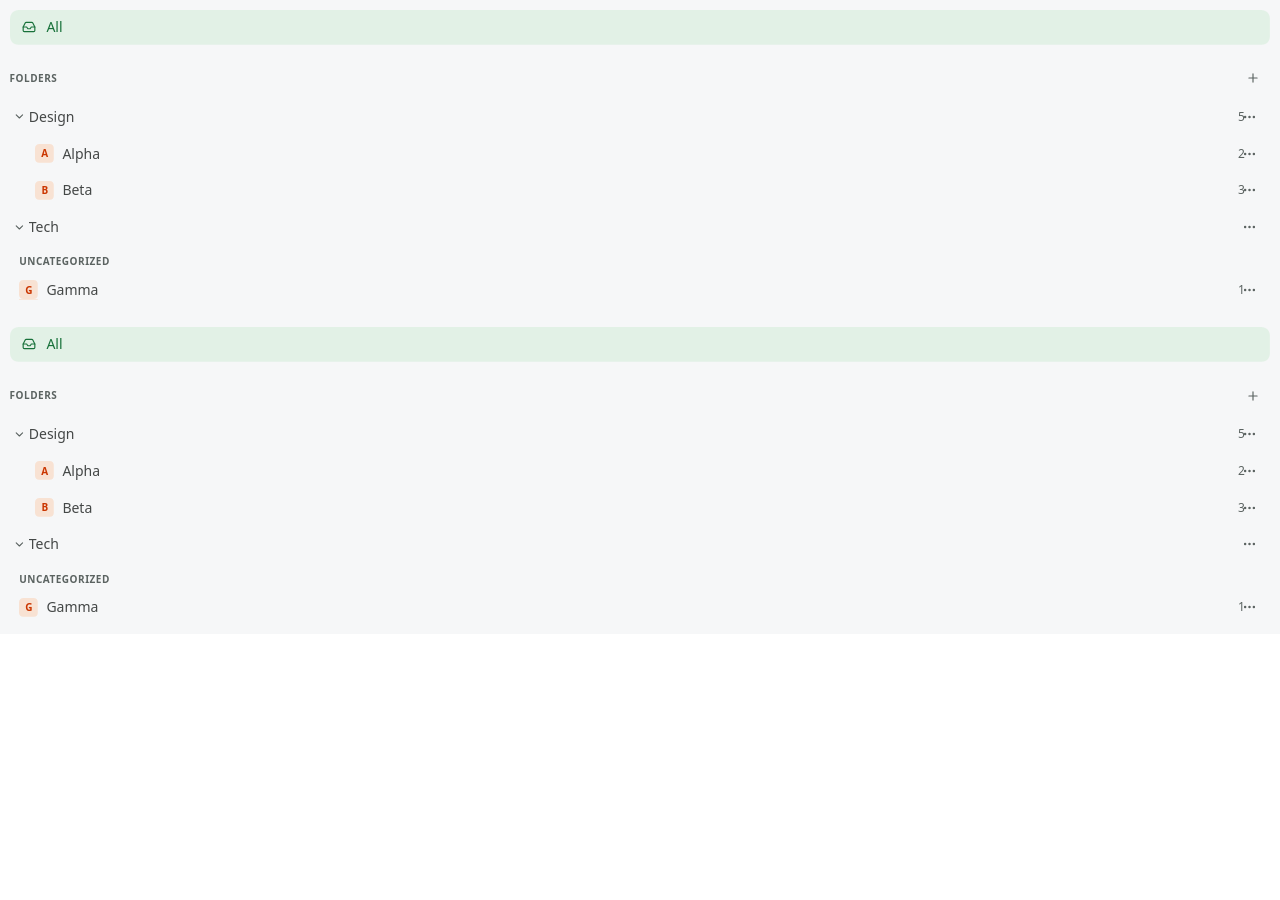
Test: RAD-393: folder tree › keeps both mounted instances in sync through one provider
This screenshot has width=1280, height=900.
Click the 1st button named "collapse design" at coordinates (19, 117), box [10, 99, 29, 134]
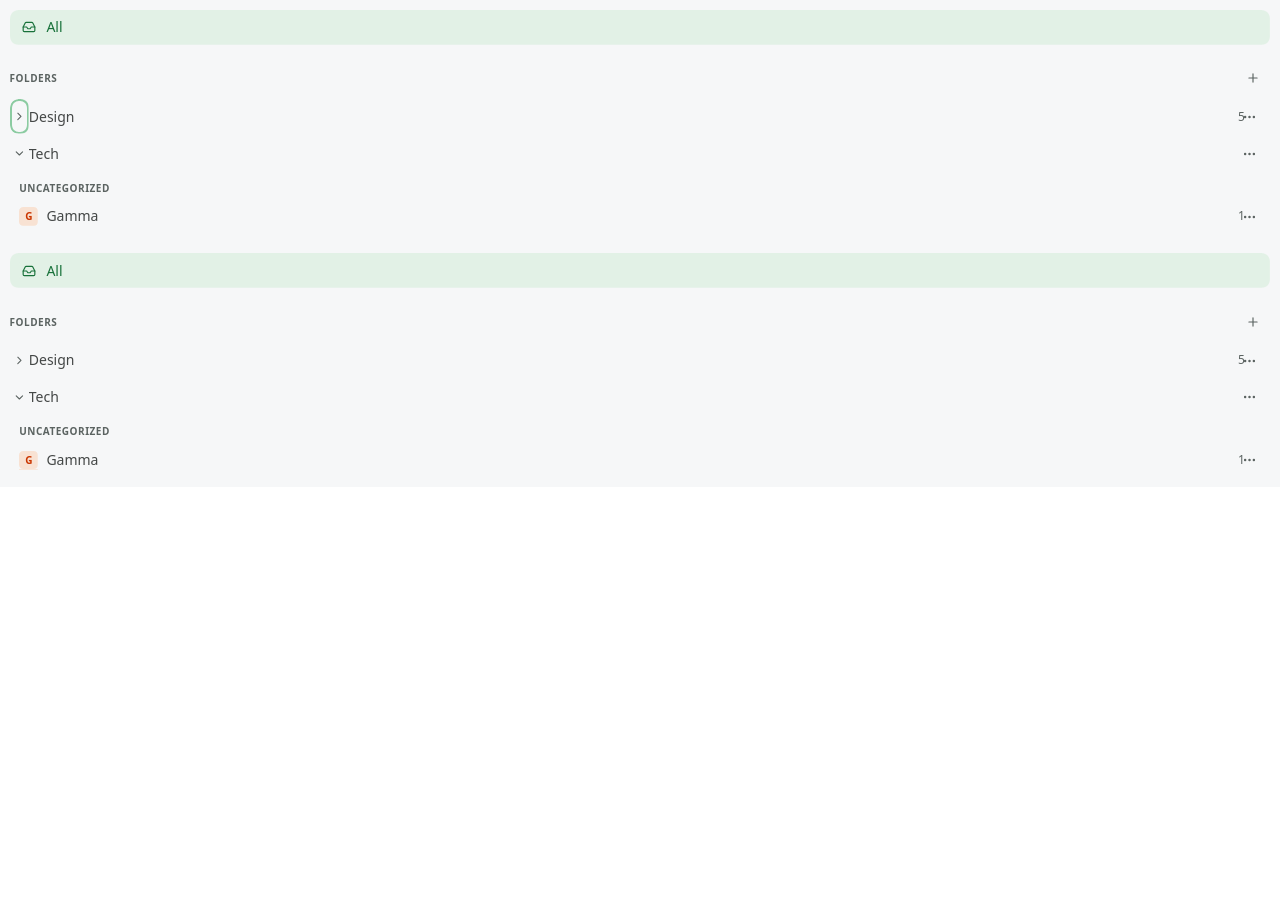
Expected: the 1st button named "expand design" is collapsed, [10, 99, 29, 134]
Expected: the 2nd button named "expand design" is collapsed, [10, 343, 29, 378]
